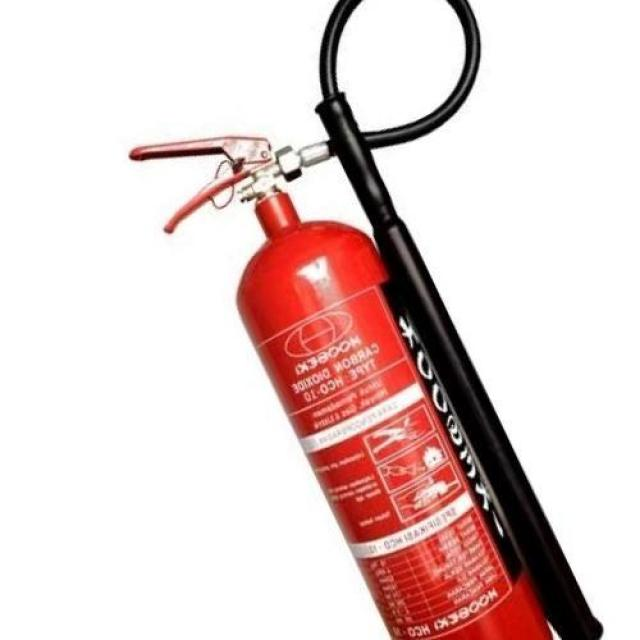fire_extinguisher: (119, 0, 608, 639)
